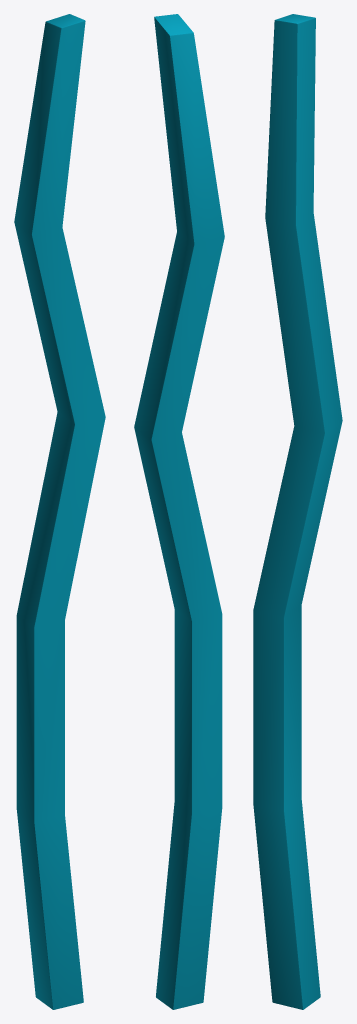
The model's file is alex_column_crave_fabric_roof_1.FBX.
The picture shows the model from 3 angles, left to right: view 1: azimuth 30°, elevation 25°; view 2: azimuth 210°, elevation 25°; view 3: azimuth 330°, elevation 25°; orthographic projection.
Visible parts, largest first — view 1: alex_column_crave_fabric_roof; view 2: alex_column_crave_fabric_roof; view 3: alex_column_crave_fabric_roof.
Part boxes in pixels (bbox=[...]): alex_column_crave_fabric_roof: bbox=[14, 14, 105, 1009]; alex_column_crave_fabric_roof: bbox=[134, 14, 224, 1009]; alex_column_crave_fabric_roof: bbox=[253, 14, 342, 1009].
Size of the model in its own units: 23.35 by 306 by 16.05.
